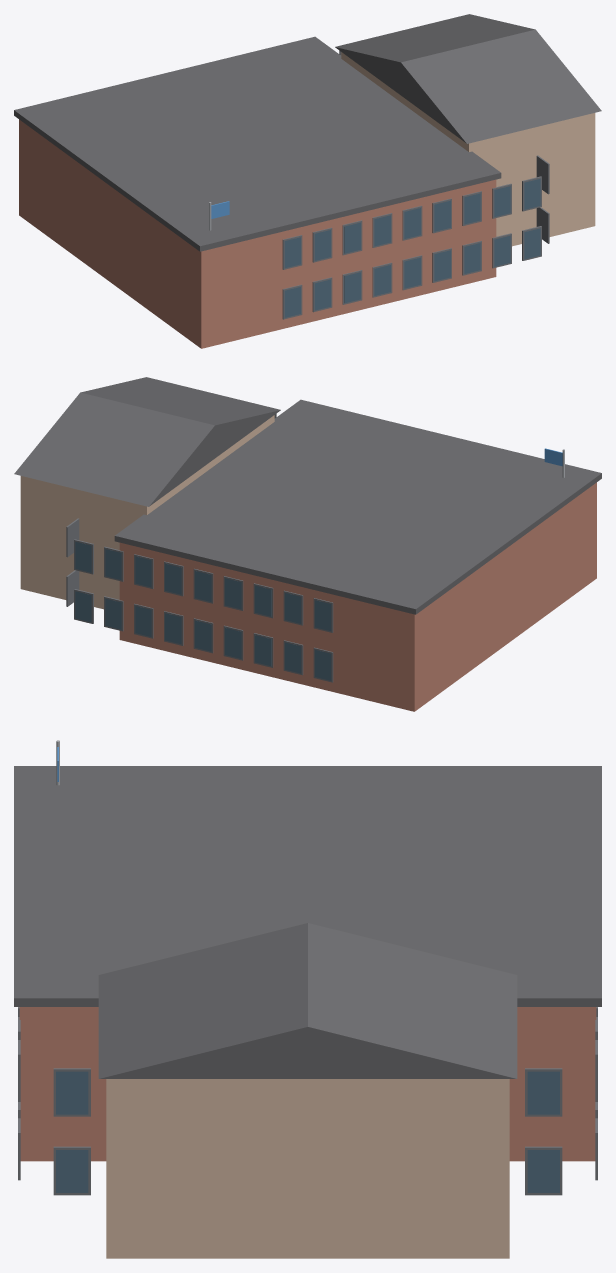
The model's file is school.glb.
The picture shows the model from 3 angles, top to bottom: view 1: azimuth 30°, elevation 25°; view 2: azimuth 150°, elevation 25°; view 3: azimuth 270°, elevation 25°; orthographic projection. The views are drawn at different scales.
Parts seen in each view (by area): view 1: m, Cube, Cube.001, Cube.003, Cube.002; view 2: m, Cube, Cube.001, Cube.003, Cube.002; view 3: m, Cube.001, Cube, Cube.003, Cube.002.
Boxes of the visible parts, bbox=[...] form: m: bbox=[14, 14, 601, 251]; Cube: bbox=[19, 119, 496, 348]; Cube.001: bbox=[341, 52, 595, 246]; Cube.003: bbox=[284, 178, 540, 317]; Cube.002: bbox=[282, 50, 549, 319]; m: bbox=[14, 377, 601, 614]; Cube: bbox=[119, 482, 596, 711]; Cube.001: bbox=[20, 415, 274, 609]; Cube.003: bbox=[75, 541, 331, 680]; Cube.002: bbox=[66, 413, 333, 682]; m: bbox=[14, 766, 601, 1078]; Cube.001: bbox=[106, 1079, 509, 1258]; Cube: bbox=[19, 1007, 596, 1161]; Cube.003: bbox=[56, 1071, 559, 1192]; Cube.002: bbox=[18, 1007, 597, 1195].
Size of the model in its own units: 40.7 by 13.5 by 30.6.
